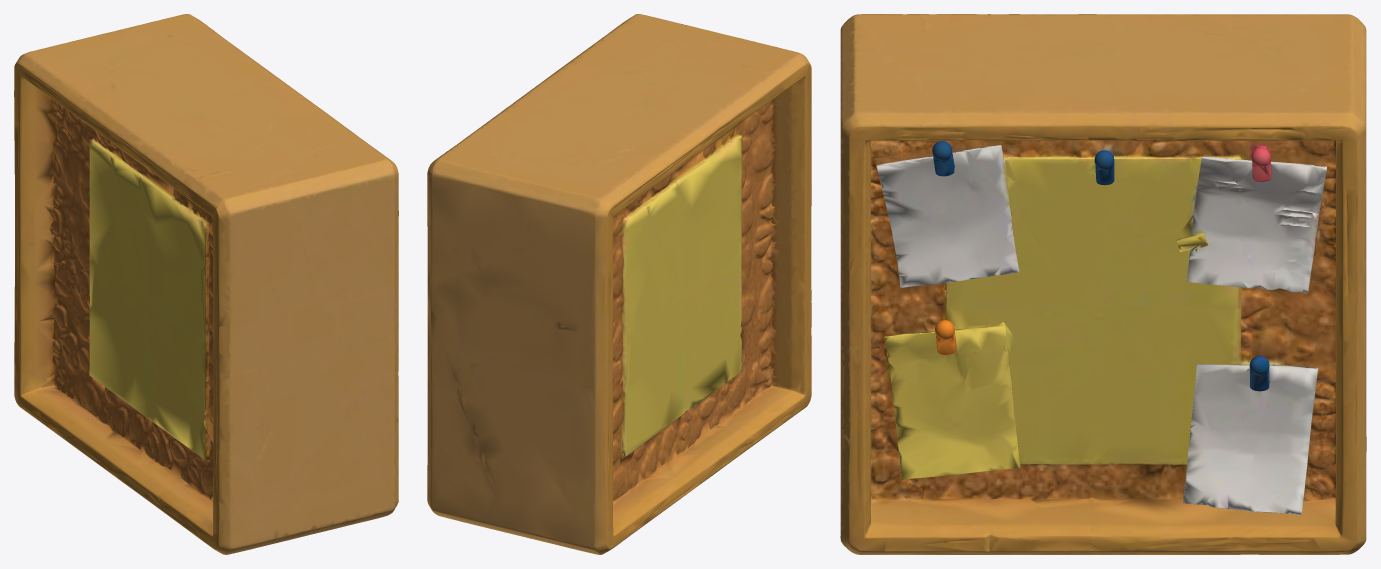
File: bg_bulletin_board.glb
The picture shows the model from 3 angles, left to right: view 1: azimuth 30°, elevation 25°; view 2: azimuth 150°, elevation 25°; view 3: azimuth 270°, elevation 25°; orthographic projection. The views are drawn at different scales.
Visible parts, largest first — view 1: tripo_node_ffa81279-a146-46e9-beef-a6bf088e1202; view 2: tripo_node_ffa81279-a146-46e9-beef-a6bf088e1202; view 3: tripo_node_ffa81279-a146-46e9-beef-a6bf088e1202.
Boxes of the visible parts, <box> form: tripo_node_ffa81279-a146-46e9-beef-a6bf088e1202: <box>14,14,398,554</box>; tripo_node_ffa81279-a146-46e9-beef-a6bf088e1202: <box>427,14,811,554</box>; tripo_node_ffa81279-a146-46e9-beef-a6bf088e1202: <box>840,14,1366,554</box>.
Bounding box in the file's own units: 0.4925 × 0.9288 × 1.
Materials: 1 (1 with a texture image).
